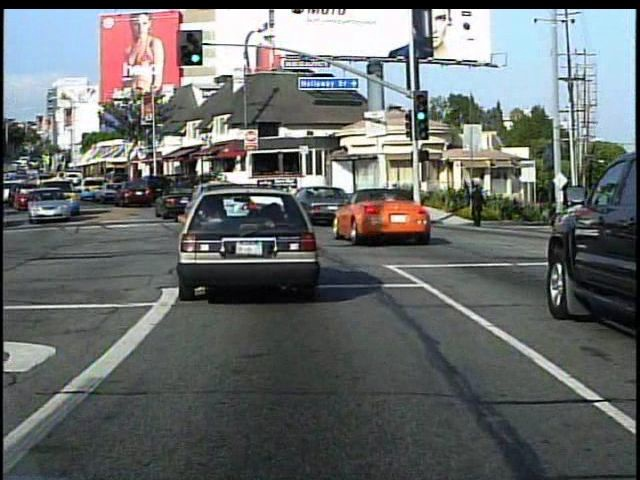person: (556, 183, 579, 245), (465, 182, 487, 229)
